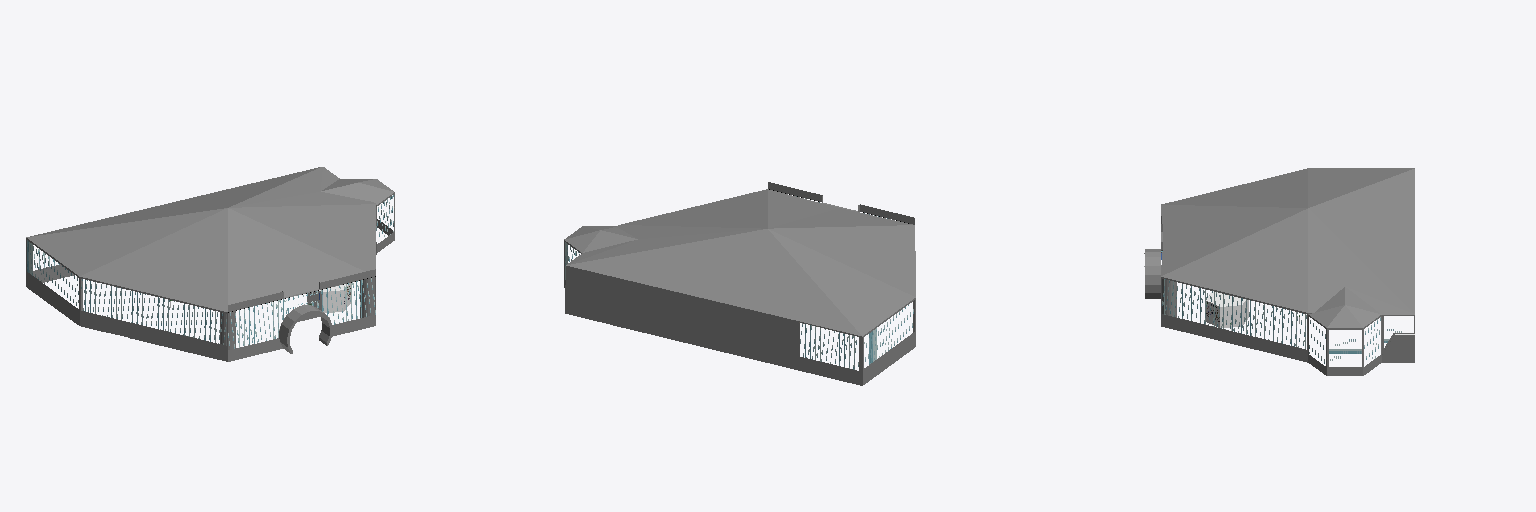
The picture shows the model from 3 angles: view 1: azimuth 30°, elevation 25°; view 2: azimuth 150°, elevation 25°; view 3: azimuth 270°, elevation 25°; orthographic projection.
Parts seen in each view (by area): view 1: aquarium; view 2: aquarium; view 3: aquarium.
Part boxes in pixels (left/top/right/bottom): aquarium: left=26, top=167, right=394, bottom=361; aquarium: left=564, top=182, right=915, bottom=385; aquarium: left=1144, top=168, right=1414, bottom=375.
Size of the model in its own units: 1689 by 409 by 1223.
Materials: 17 (2 with a texture image).